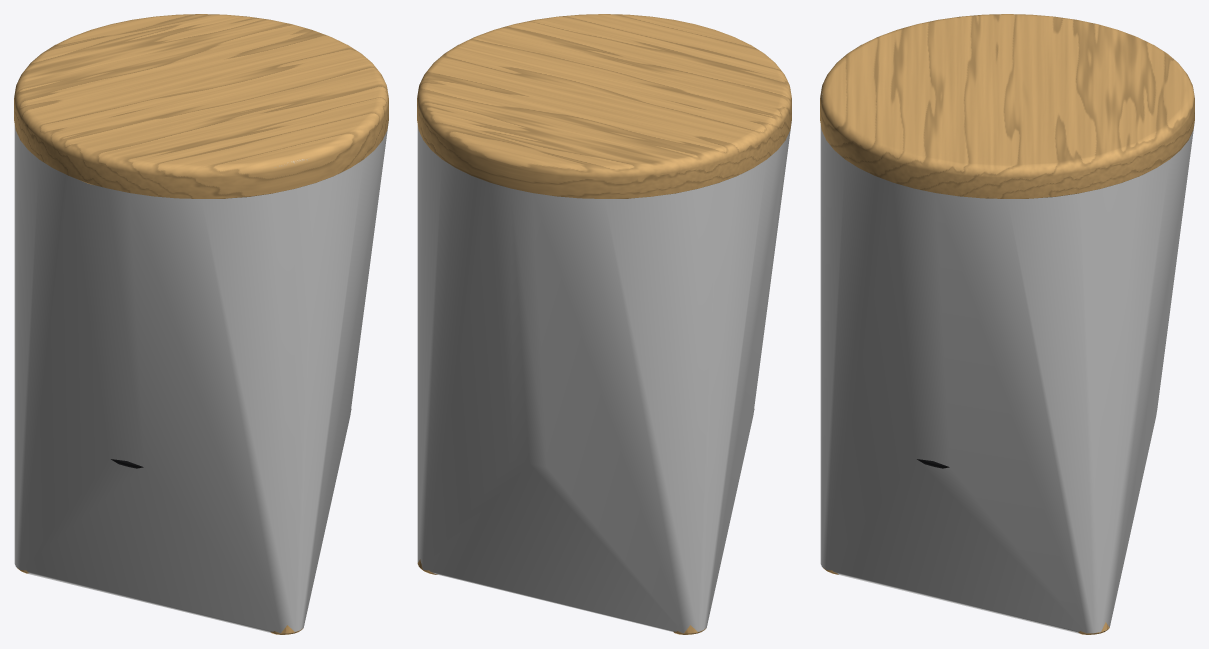
The model's file is SM_BancoMadeira.glb.
The picture shows the model from 3 angles, left to right: view 1: azimuth 30°, elevation 25°; view 2: azimuth 150°, elevation 25°; view 3: azimuth 270°, elevation 25°; orthographic projection.
Visible parts, largest first — view 1: SM_BancoMadeira_col, SM_BancoMadeira_LOD0; view 2: SM_BancoMadeira_col, SM_BancoMadeira_LOD0; view 3: SM_BancoMadeira_col, SM_BancoMadeira_LOD0.
Boxes of the visible parts, x1=… form: SM_BancoMadeira_col: x1=14, y1=123, x2=388, y2=633; SM_BancoMadeira_LOD0: x1=14, y1=14, x2=388, y2=634; SM_BancoMadeira_col: x1=417, y1=123, x2=791, y2=633; SM_BancoMadeira_LOD0: x1=417, y1=14, x2=791, y2=634; SM_BancoMadeira_col: x1=820, y1=93, x2=1194, y2=633; SM_BancoMadeira_LOD0: x1=820, y1=14, x2=1194, y2=634.
Size of what is drawn, in the model's own units: 0.32 by 0.45 by 0.32.
Materials: 2 (2 with a texture image).
